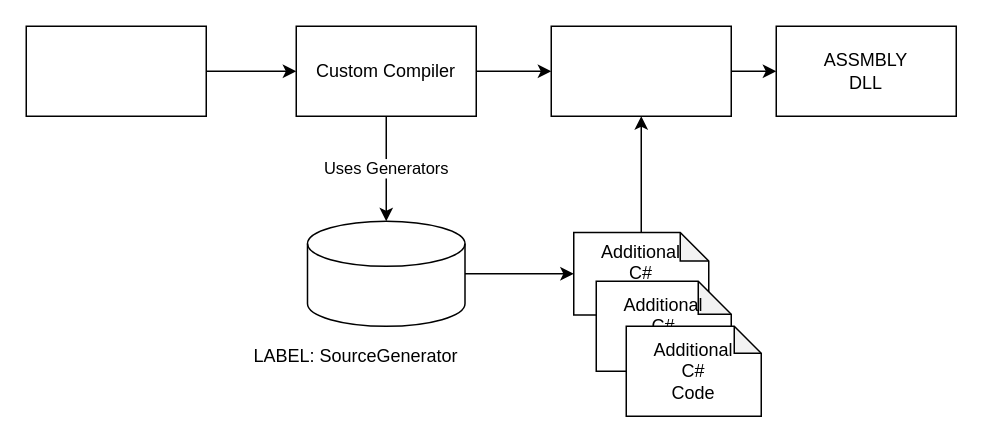
This 983x443 diagram has some shape labels left out. The centre of each missing label's shape, as x and y in pixels:
"C# Source" belongs at (115,70).
"COMBINE SOURCES" belongs at (640,70).
"SOURCE GENERATORS" belongs at (385,273).
